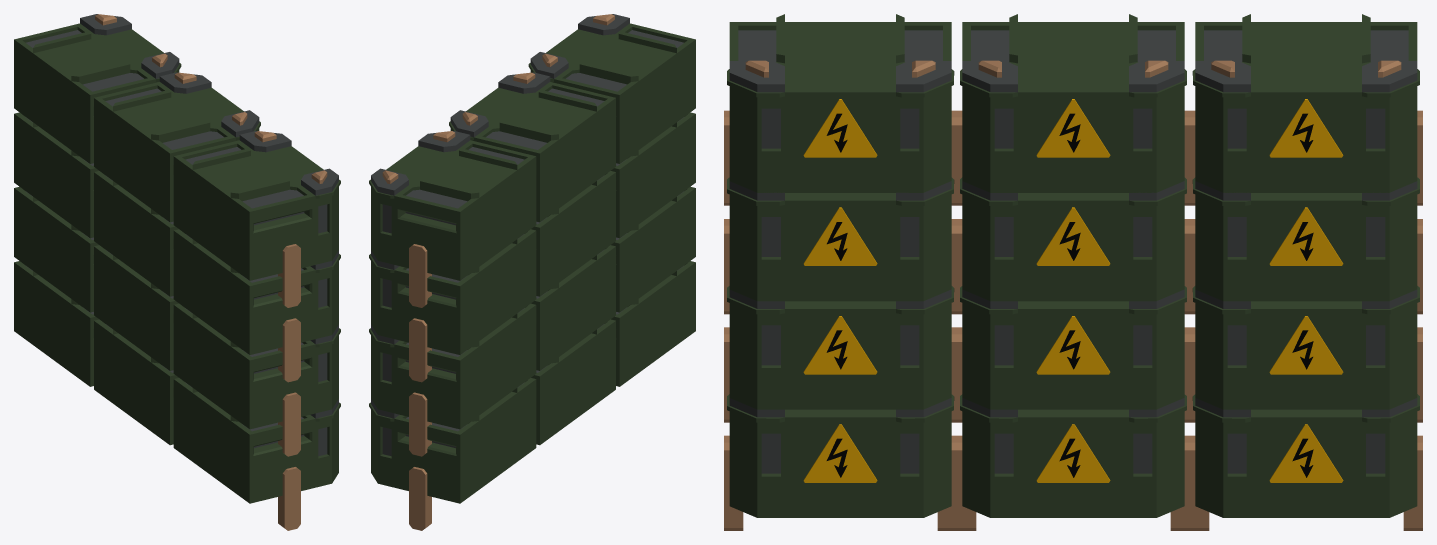
File: Battery.fbx
3 renders of one model, left to right at view 1: azimuth 30°, elevation 25°; view 2: azimuth 150°, elevation 25°; view 3: azimuth 270°, elevation 25°, orthographic. The views are drawn at different scales.
Visible parts, largest first — view 1: Circle.001; view 2: Circle.001; view 3: Circle.001.
Part boxes in pixels (x1,y1,x2,y2): Circle.001: (14,14,340,530); Circle.001: (369,14,695,530); Circle.001: (724,14,1422,530).
Bounding box in the file's own units: 126 × 406 × 522.
